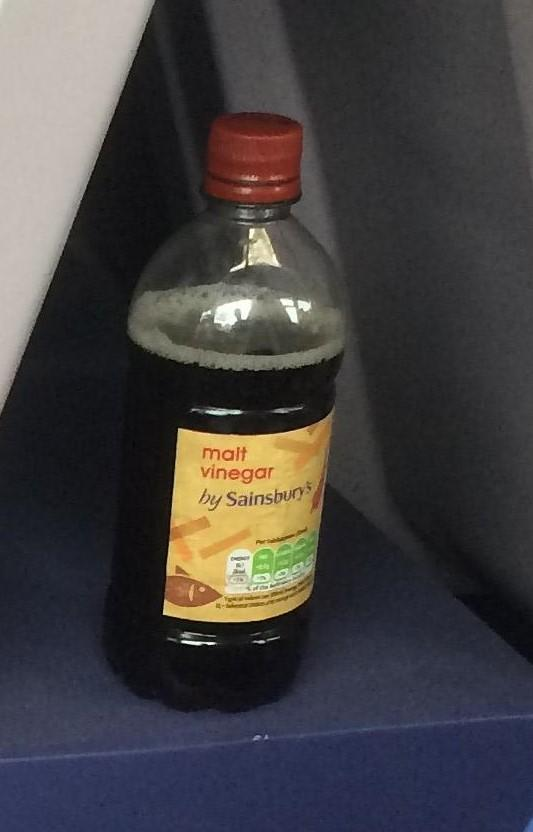Plastic: (107, 112, 346, 712)
